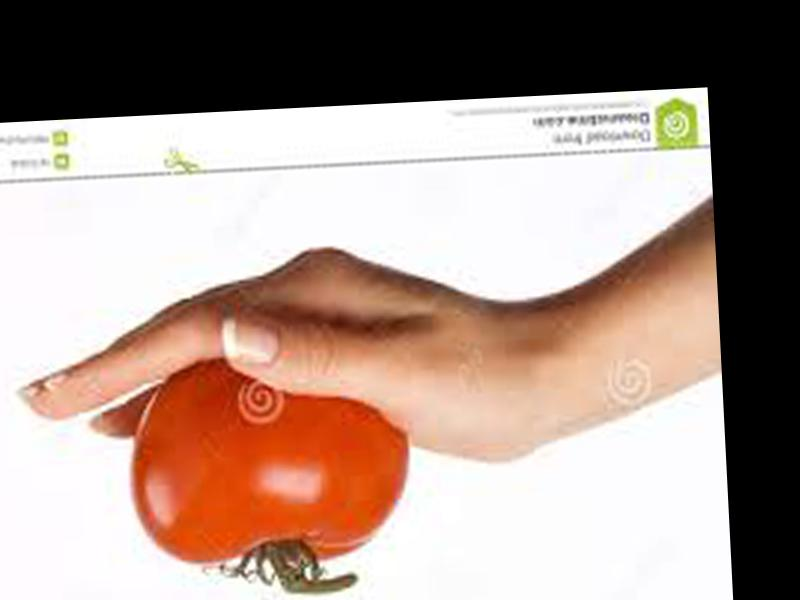Tomato: (126, 351, 413, 569)
